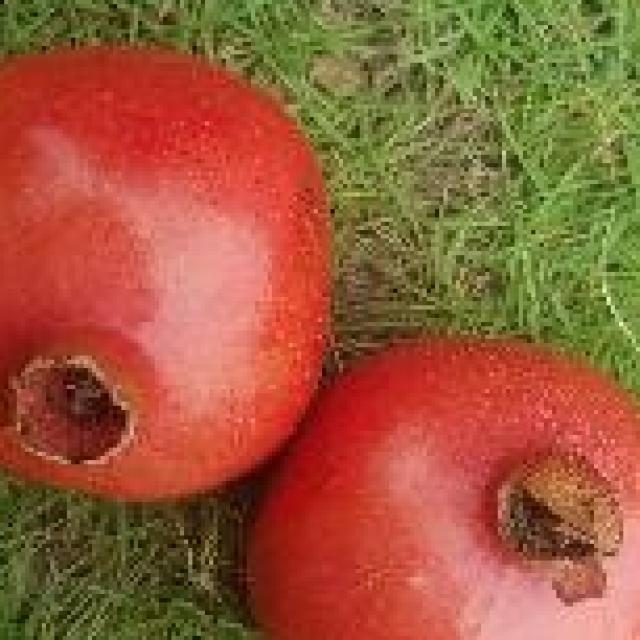Good_Pomegranate 50-60-days: (0, 38, 339, 510)
